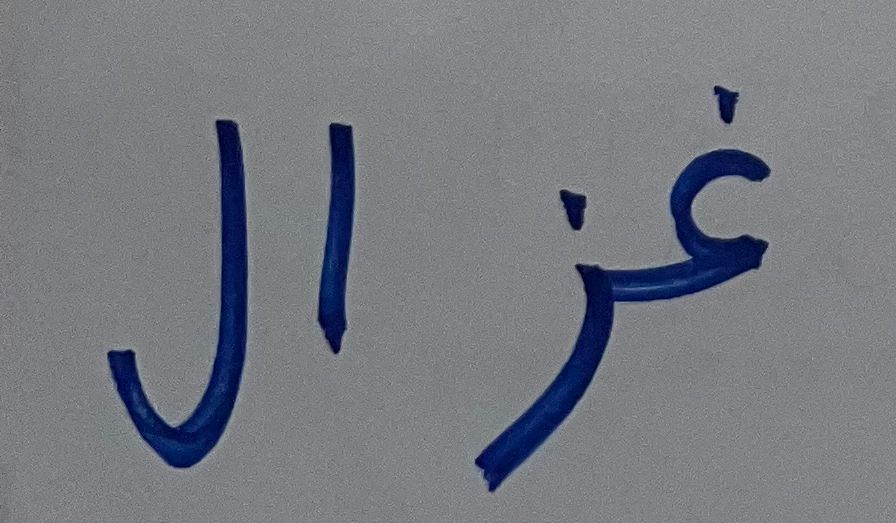ghain: (640, 68, 806, 310)
hah: (305, 99, 388, 373)
lam: (82, 104, 280, 480)
zain: (459, 165, 634, 511)
